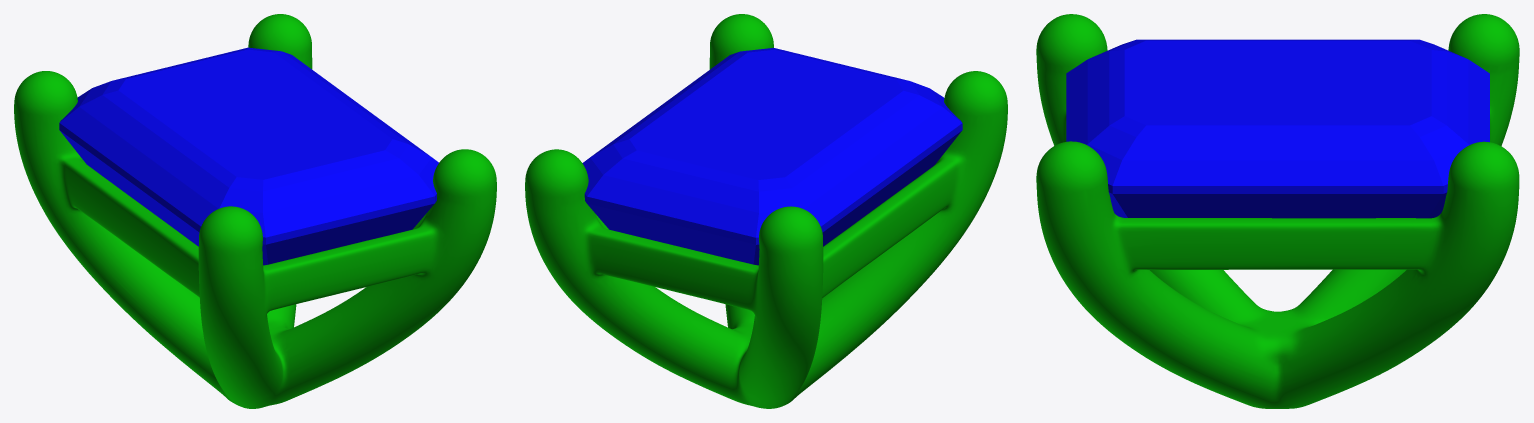
3 renders of one model, left to right at view 1: azimuth 30°, elevation 25°; view 2: azimuth 150°, elevation 25°; view 3: azimuth 270°, elevation 25°, orthographic. The views are drawn at different scales.
Visible parts, largest first — view 1: Metal01, Diamond_Emerald; view 2: Metal01, Diamond_Emerald; view 3: Metal01, Diamond_Emerald.
Boxes of the visible parts, left/top/right/bottom form: Metal01: left=14, top=14, right=496, bottom=408; Diamond_Emerald: left=59, top=47, right=438, bottom=265; Metal01: left=525, top=14, right=1007, bottom=408; Diamond_Emerald: left=582, top=48, right=962, bottom=265; Metal01: left=1036, top=14, right=1519, bottom=408; Diamond_Emerald: left=1066, top=39, right=1489, bottom=218.
Bounding box in the file's own units: 5.88 × 5.5 × 7.61.
